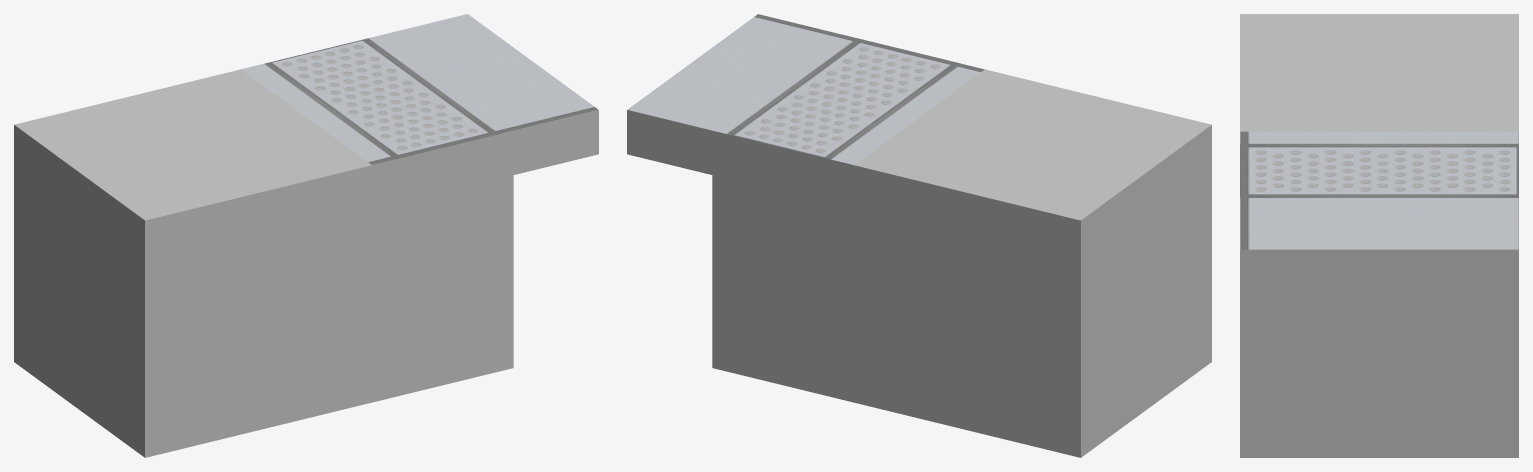
The model's file is sncf_platform.obj.
3 views of the same model, side by side, from view 1: azimuth 30°, elevation 25°; view 2: azimuth 150°, elevation 25°; view 3: azimuth 270°, elevation 25° (orthographic). The views are drawn at different scales.
Parts seen in each view (by area): view 1: cube; view 2: cube; view 3: cube.
Part boxes in pixels (x1,y1,x2,y2): cube: [14, 14, 598, 457]; cube: [627, 14, 1211, 457]; cube: [1240, 14, 1518, 457].
Size of the model in its own units: 2 by 1 by 1.
